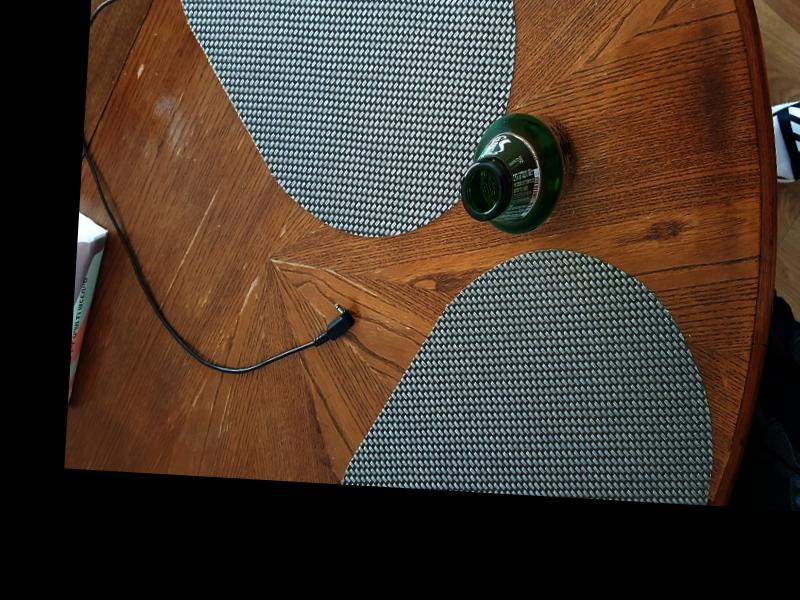Beer: (458, 110, 577, 238)
